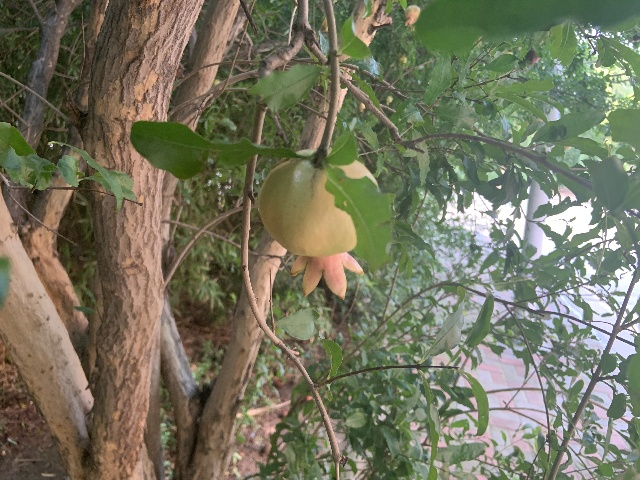mid-growth: (257, 148, 379, 299)
